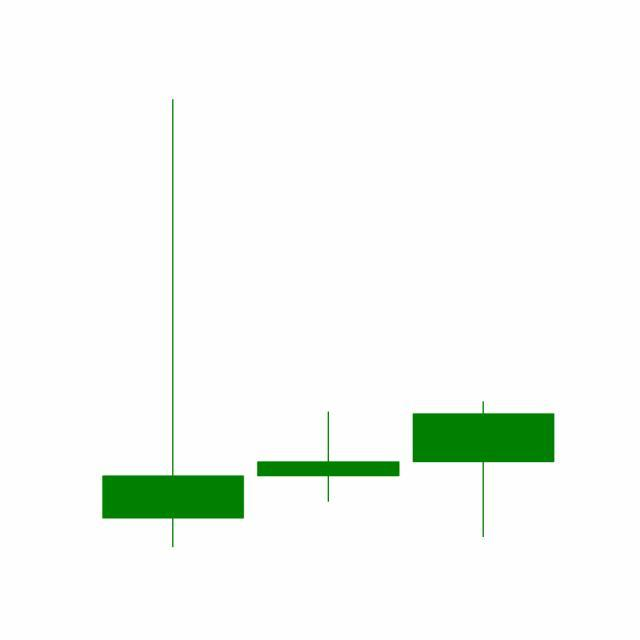Spinning Top: (250, 411, 407, 504)
